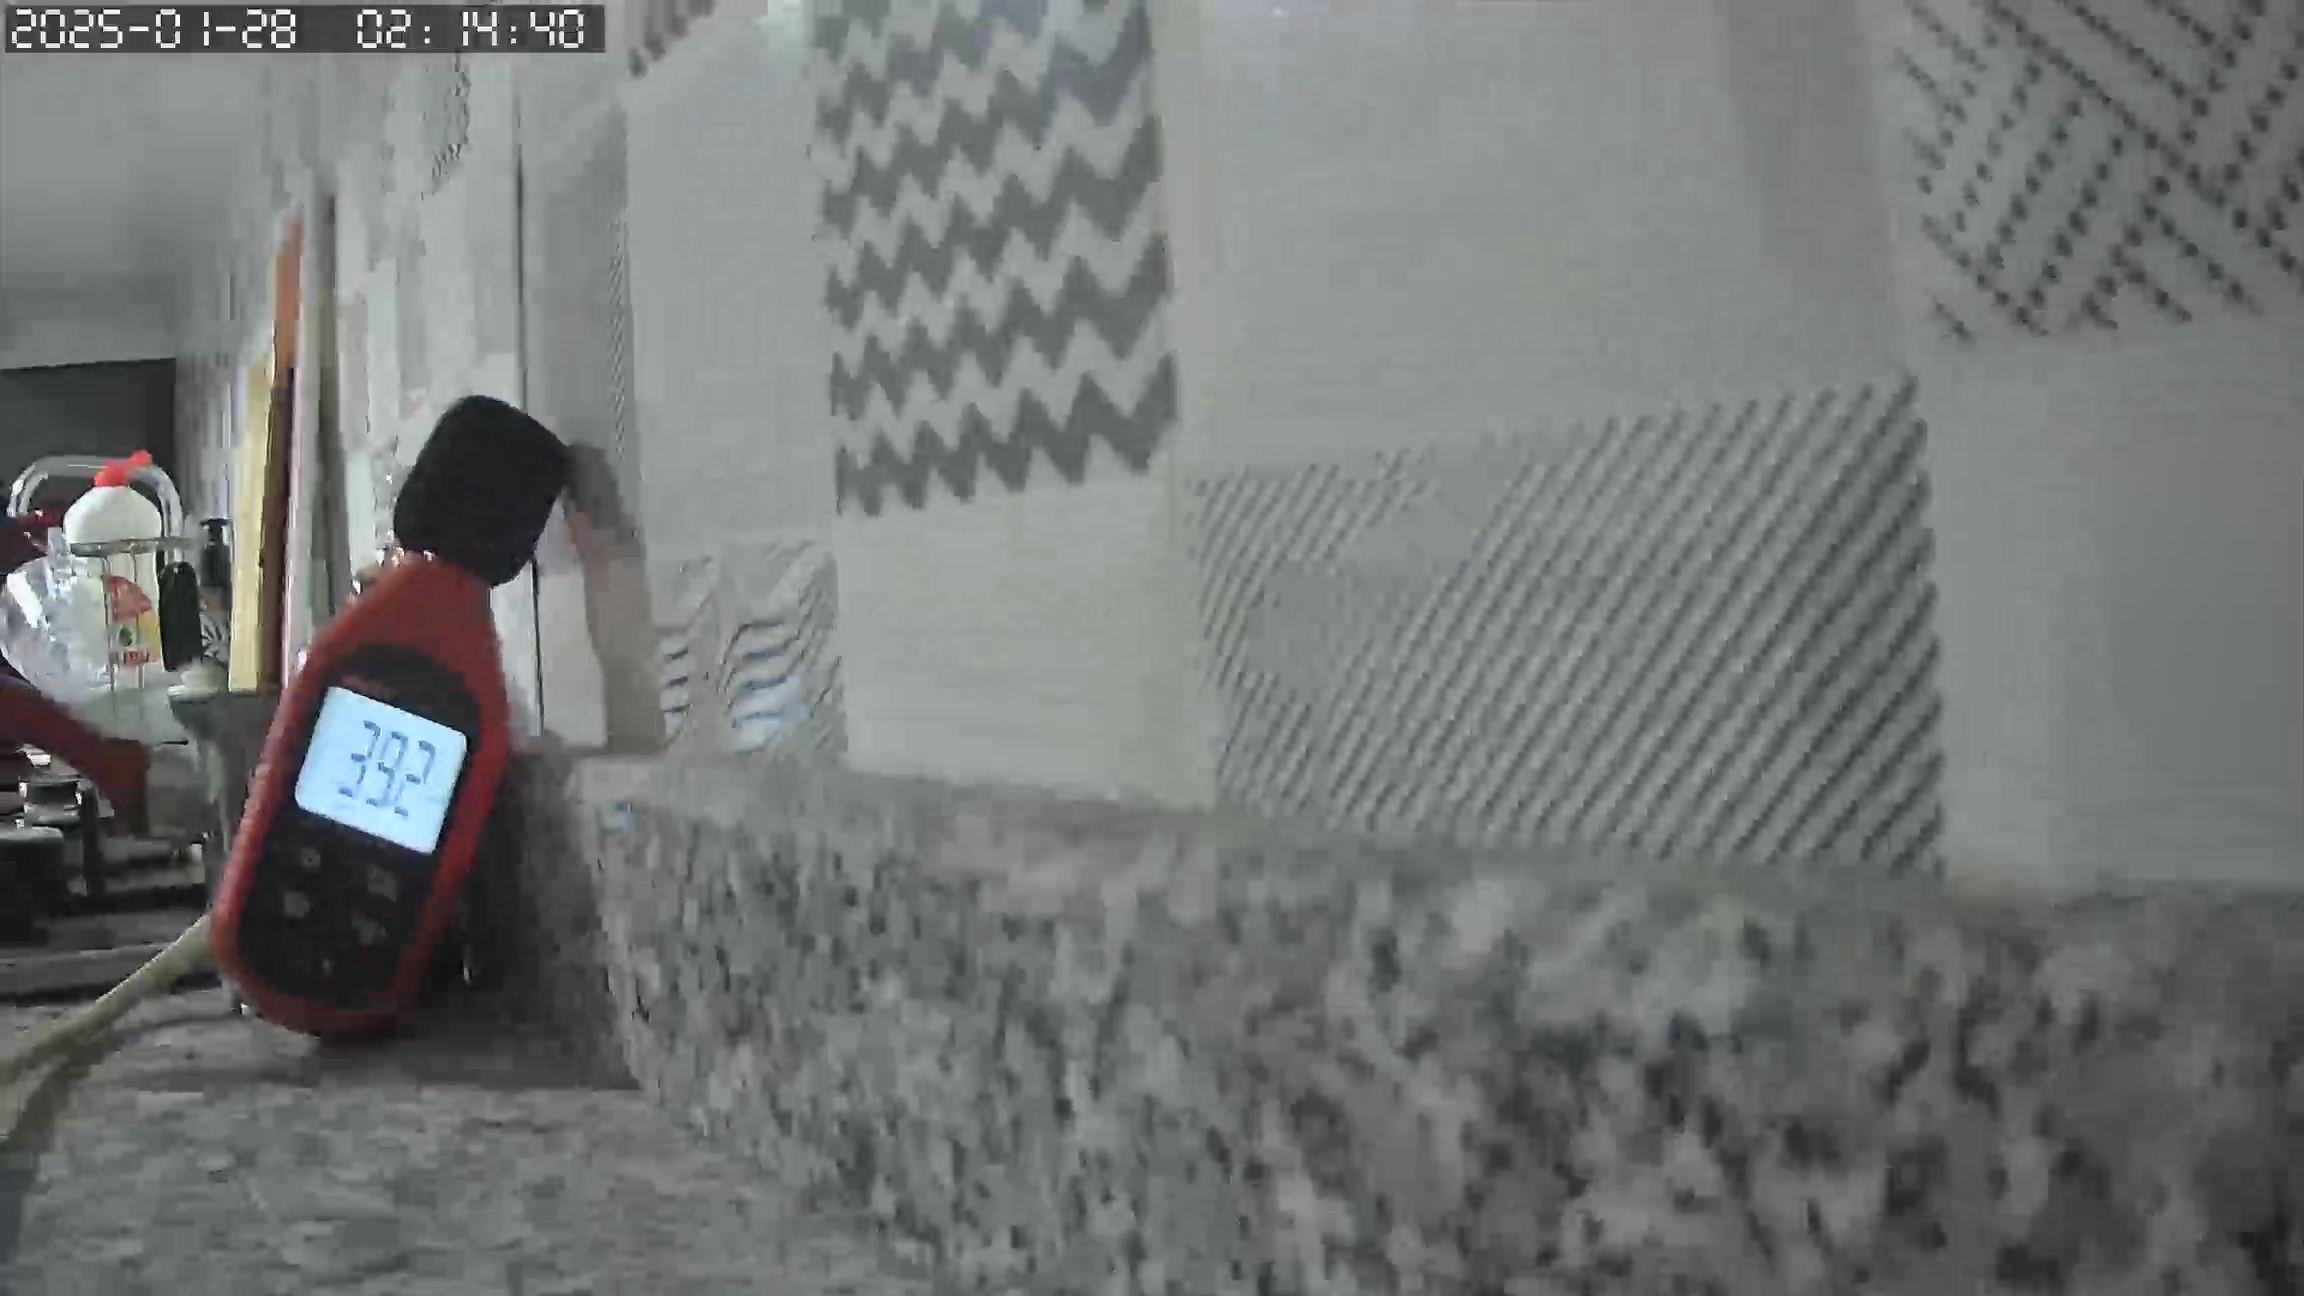screen: (294, 692, 472, 851)
